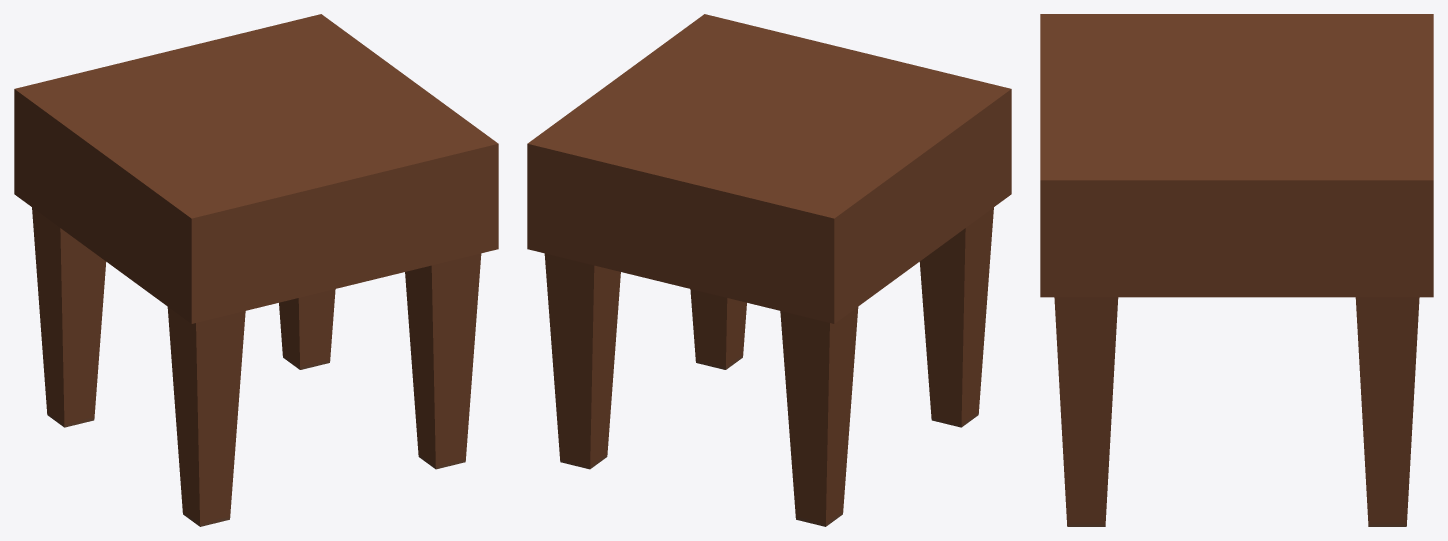
Rendered from 02_furniture_bed table.FBX.
3 views of the same model, side by side, from view 1: azimuth 30°, elevation 25°; view 2: azimuth 150°, elevation 25°; view 3: azimuth 270°, elevation 25° (orthographic). The views are drawn at different scales.
Visible parts, largest first — view 1: furniture_bdd table; view 2: furniture_bdd table; view 3: furniture_bdd table.
Boxes of the visible parts, bbox=[...] form: furniture_bdd table: bbox=[14, 14, 498, 526]; furniture_bdd table: bbox=[527, 14, 1011, 526]; furniture_bdd table: bbox=[1040, 14, 1433, 526].
Bounding box in the file's own units: 23.62 × 23.7 × 23.62.
